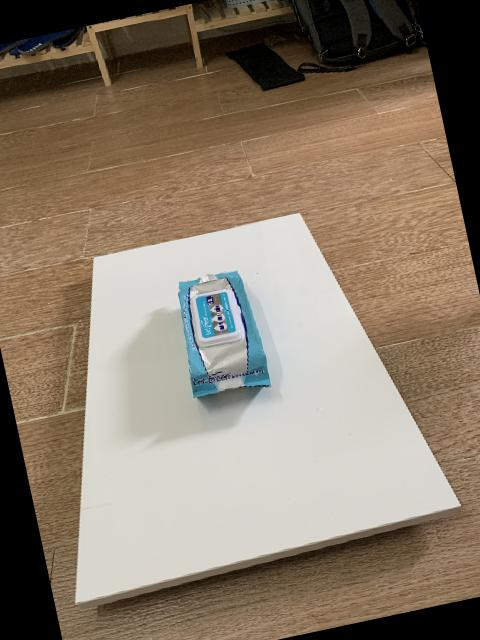Let-green_alcohol_wipes: (179, 269, 272, 398)
